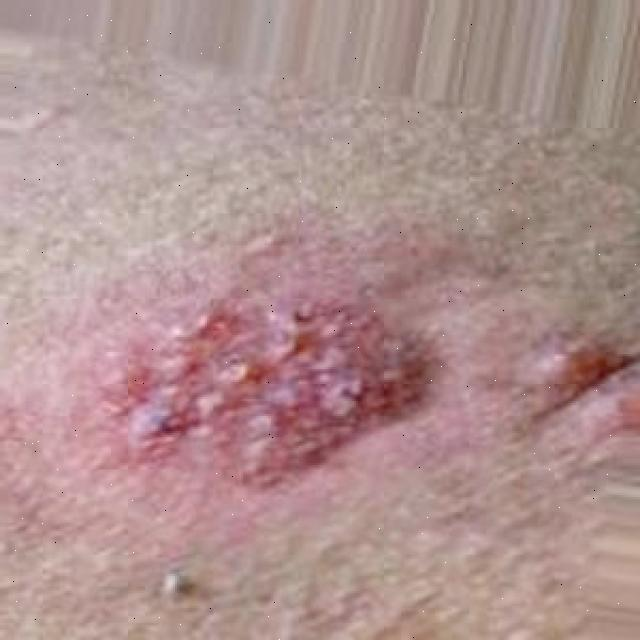Shingles: (114, 300, 424, 486)
